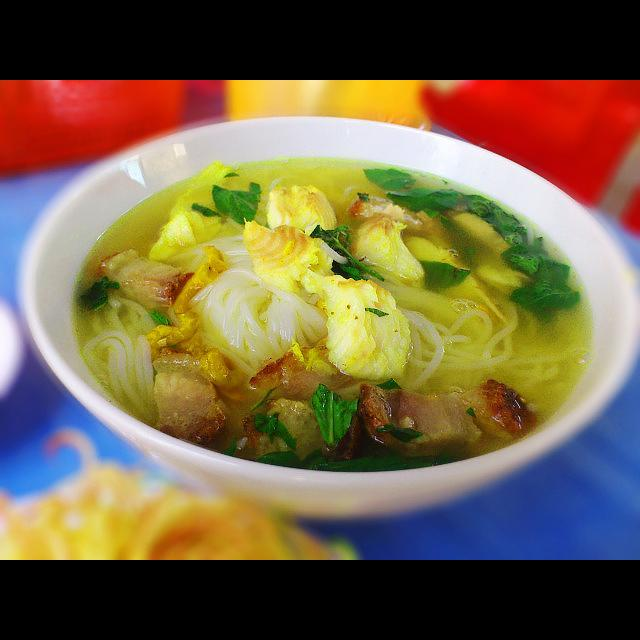bun: (408, 298, 615, 406), (177, 234, 330, 377), (84, 299, 160, 426)
bun ca: (26, 127, 640, 533)
ca: (313, 268, 421, 381), (238, 218, 343, 289), (344, 208, 430, 290), (262, 178, 341, 253)
rau ram: (303, 381, 360, 450)
thit heo quay: (356, 375, 541, 457), (147, 339, 240, 448), (92, 244, 196, 312)
